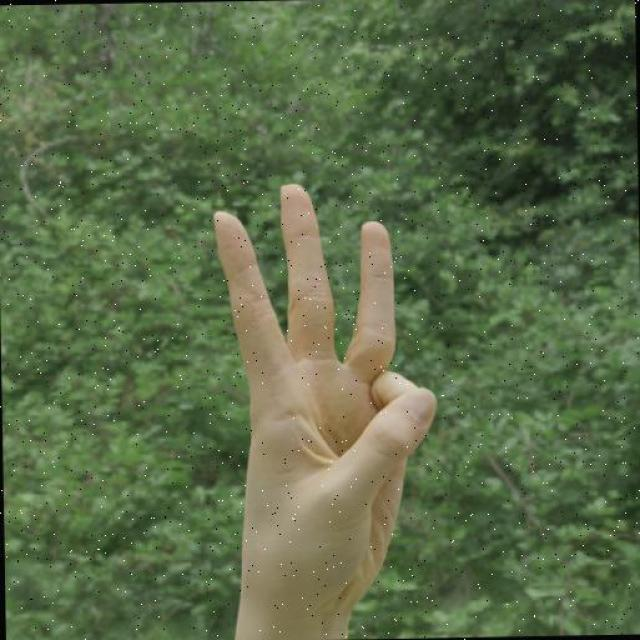W: (206, 178, 444, 627)
